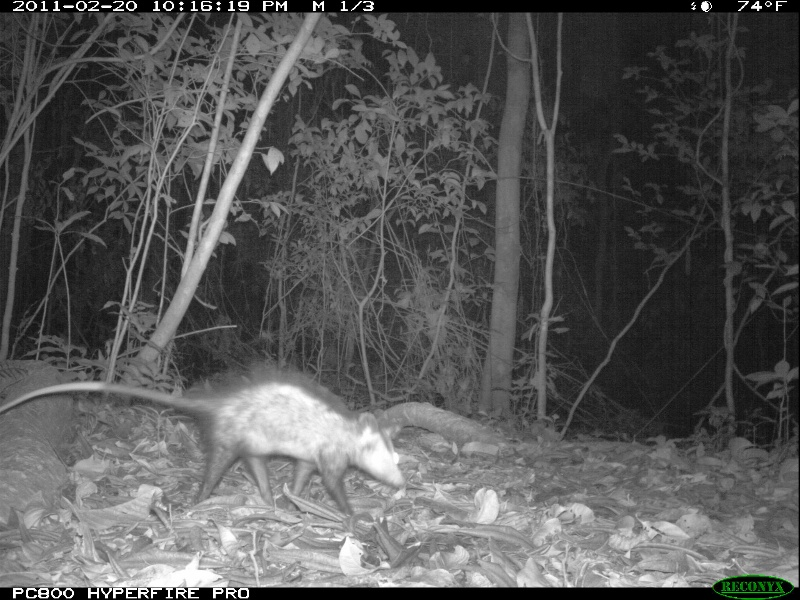opossum: (1, 360, 409, 509)
